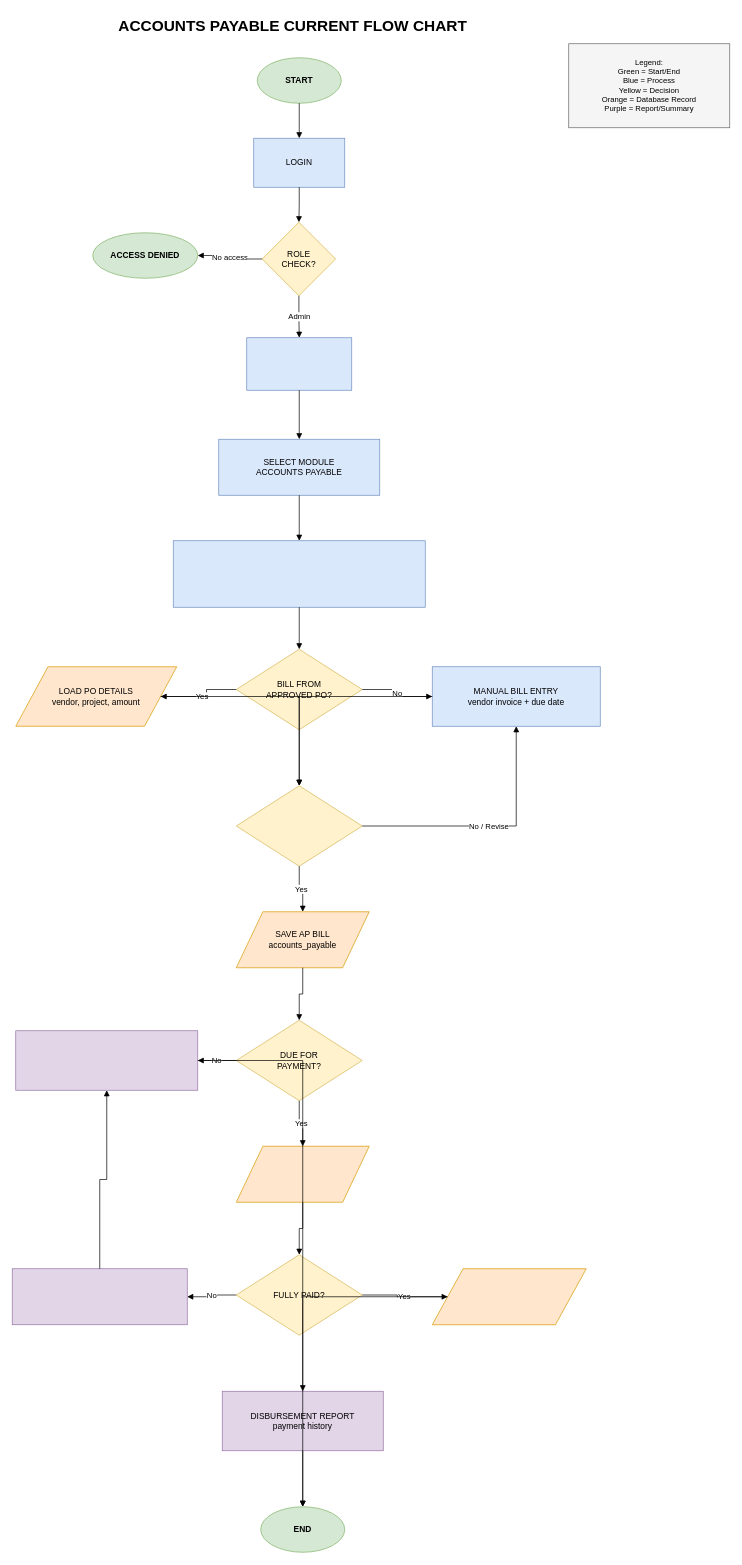
The diagram is 742 pixels wide and 1565 high, and some of its shapes have lost their labels. The box of each missing label's shape, as (x1, y1, x2, y2) in pixels:
AP AGING / VENDOR BALANCES pending / overdue: (15, 1030, 198, 1090)
BILL DATA VALID?: (236, 785, 362, 866)
DASHBOARD: (246, 337, 352, 390)
MARK BILL PAID status = paid: (432, 1268, 586, 1325)
PARTIAL PAYMENT status = partially_paid: (12, 1268, 187, 1325)
RECORD PAYMENT payments.ap_id: (236, 1146, 369, 1202)
SELECT AP TAB Bills / Vendor Balances / AP Aging / Payments / Disbursements: (173, 540, 425, 607)
